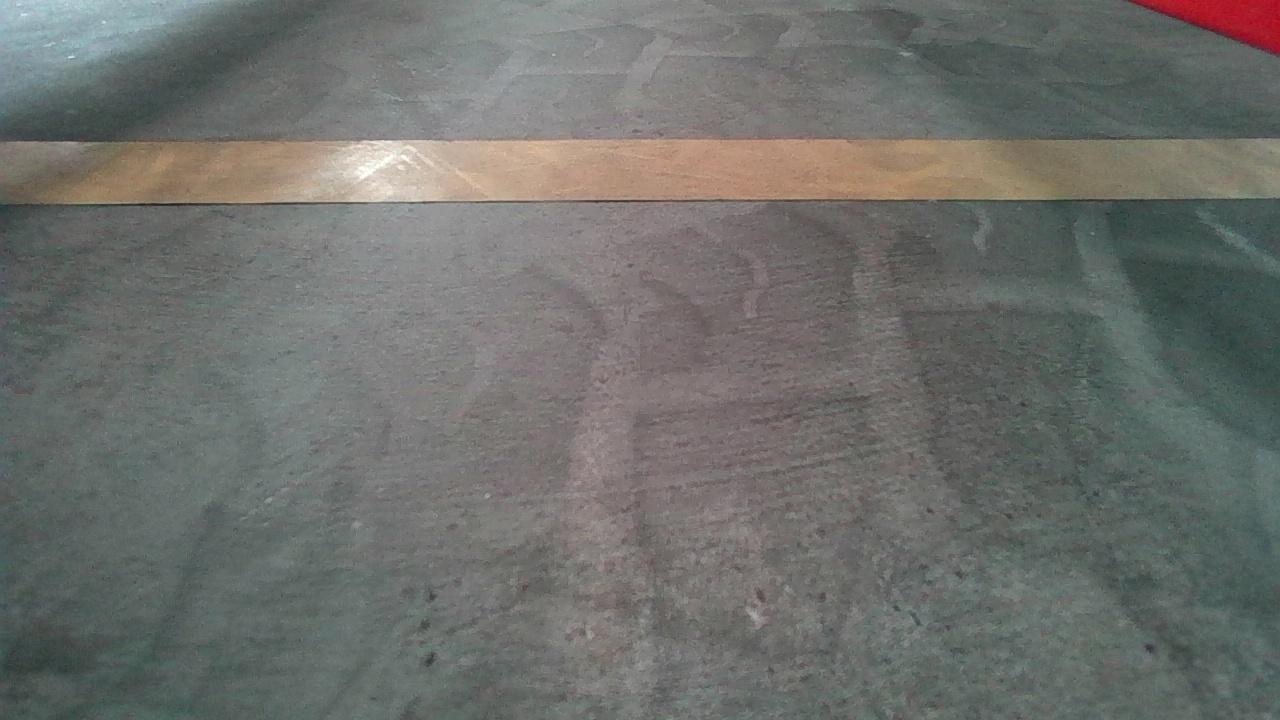yellow_line: (4, 126, 1262, 207)
